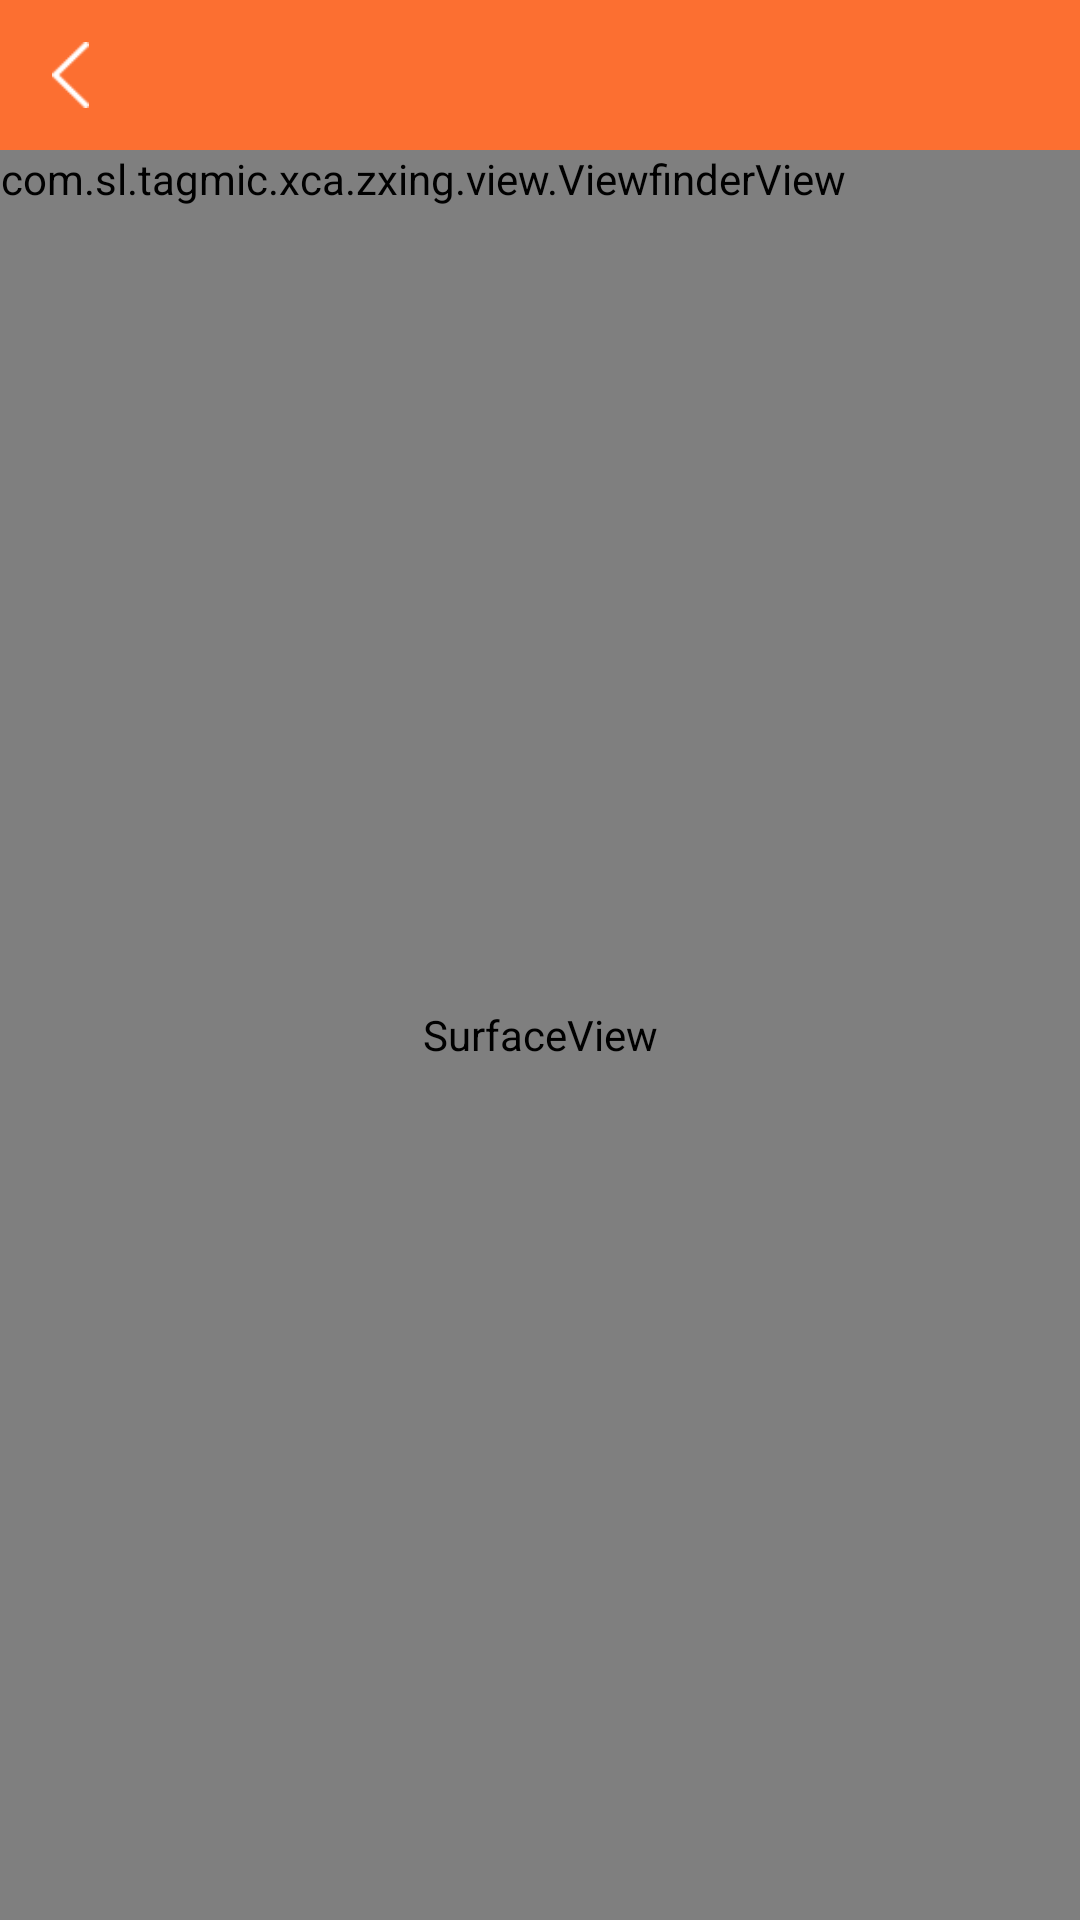

Screen size 1080px x 1920px. Icon name, then its box in pixels as (x1, y1, x2, y2):
back: (52, 42, 89, 108)
